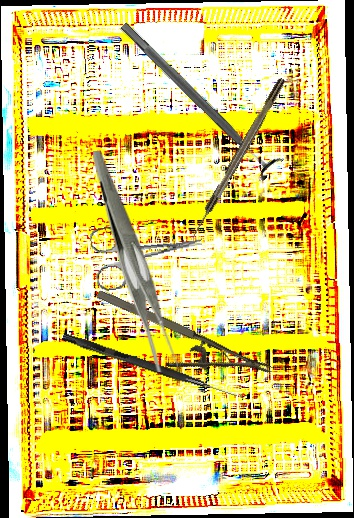Dressing Forceps: (93, 151, 178, 372)
Fixation Ring: (111, 13, 286, 182)
Hook Surgical: (187, 77, 288, 240), (60, 332, 240, 400)
Iris Scissors: (88, 212, 208, 293)
Needle Holder: (82, 284, 275, 409)
